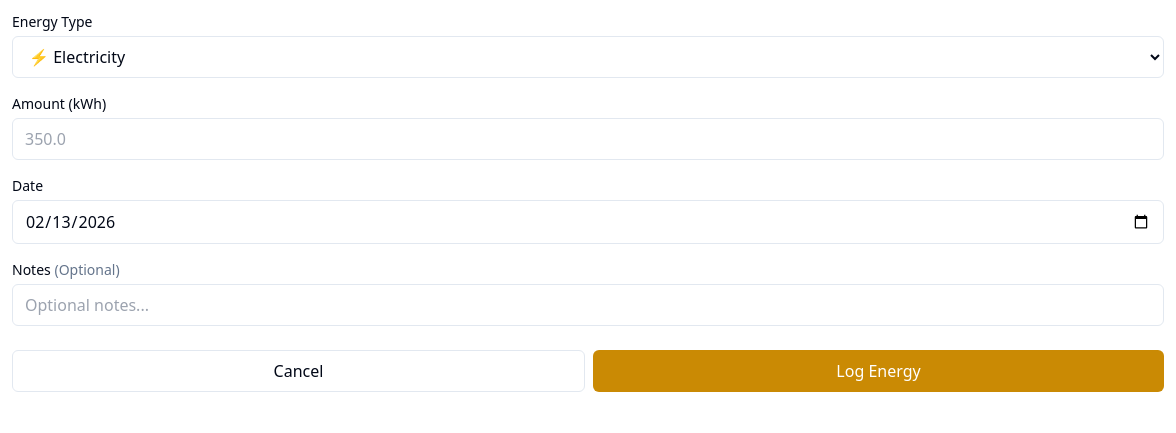
Test: EnergyForm › shows validation error for empty amount
The image size is (1176, 433).
Click the button with test id "energy-submit-button": (878, 371) [593,350,1164,392]
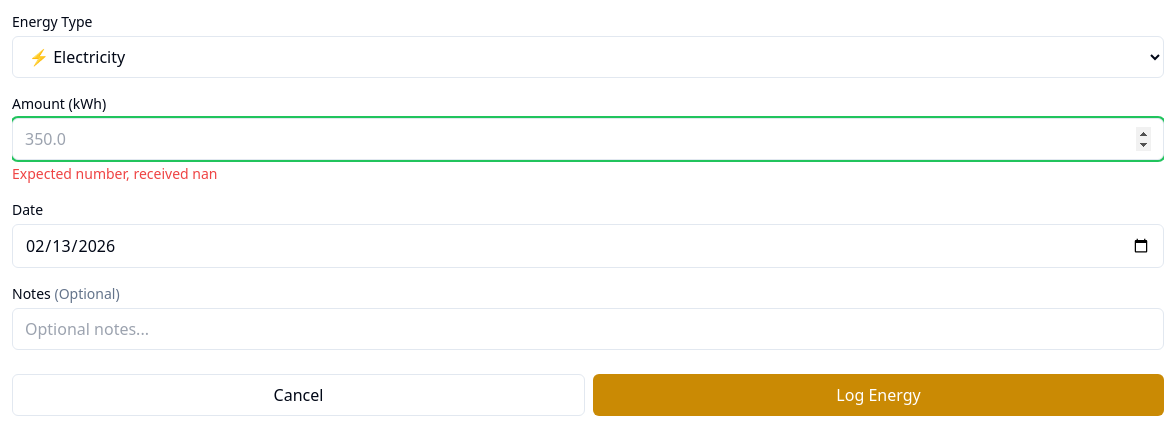
expect the message is shown: met, box [12,164,218,183]
